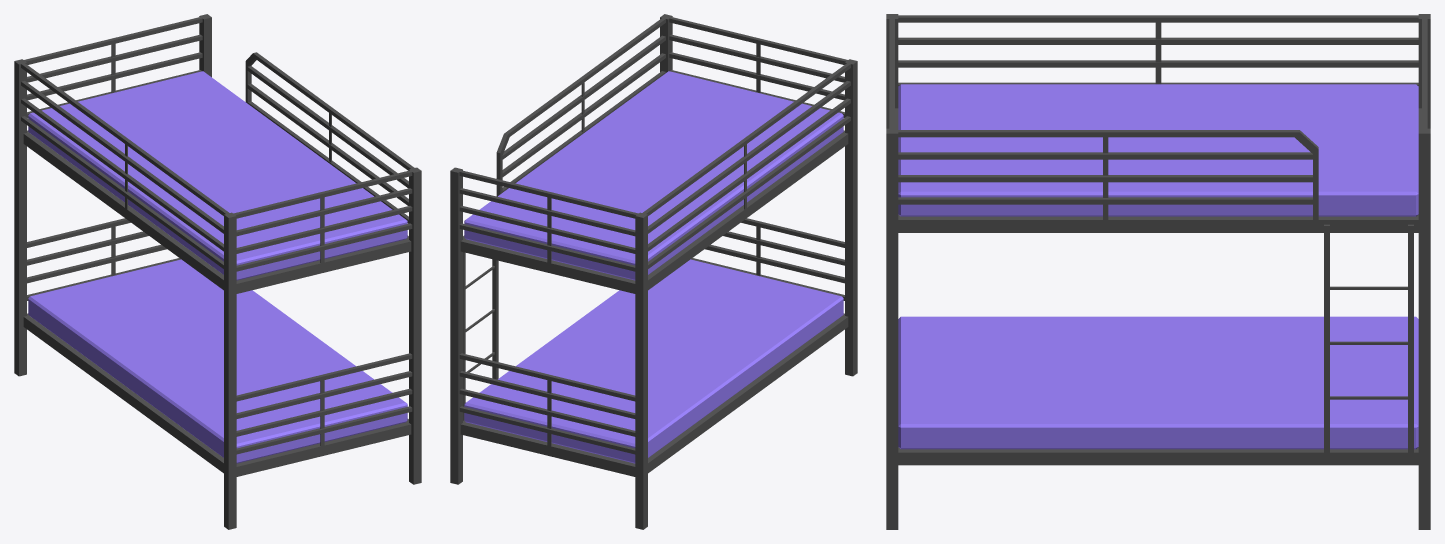
The picture shows the model from 3 angles, left to right: view 1: azimuth 30°, elevation 25°; view 2: azimuth 150°, elevation 25°; view 3: azimuth 270°, elevation 25°; orthographic projection. The views are drawn at different scales.
Visible parts, largest first — view 1: BunkBed2; view 2: BunkBed2; view 3: BunkBed2.
Boxes of the visible parts, x1=… form: BunkBed2: x1=14, y1=14, x2=421, y2=529; BunkBed2: x1=450, y1=14, x2=857, y2=529; BunkBed2: x1=886, y1=14, x2=1430, y2=529.
Bounding box in the file's own units: 103 × 159 × 198.
